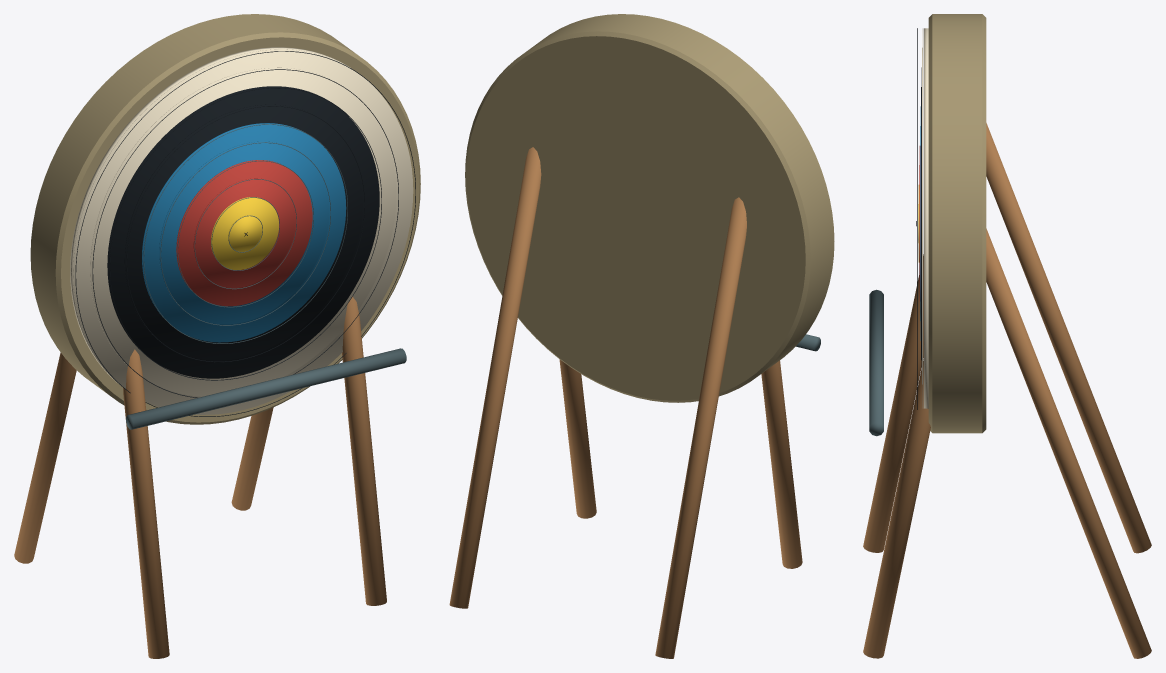
The model's file is club-archery-target.high.glb.
The picture shows the model from 3 angles, left to right: view 1: azimuth 30°, elevation 25°; view 2: azimuth 150°, elevation 25°; view 3: azimuth 270°, elevation 25°; orthographic projection. The views are drawn at different scales.
Visible parts, largest first — view 1: geometry:body:4, geometry:body:1, geometry:body:2, geometry:body:5, geometry:body:0, geometry:body:6, geometry:body:3, geometry:body:7; view 2: geometry:body:2, geometry:body:0; view 3: geometry:body:0, geometry:body:2, geometry:body:4, geometry:body:3, geometry:body:1.
Boxes of the visible parts, bbox=[...] form: geometry:body:4: bbox=[70, 47, 413, 414]; geometry:body:1: bbox=[75, 51, 415, 416]; geometry:body:2: bbox=[30, 14, 420, 424]; geometry:body:5: bbox=[142, 123, 346, 342]; geometry:body:0: bbox=[14, 296, 386, 658]; geometry:body:6: bbox=[176, 160, 312, 306]; geometry:body:3: bbox=[126, 124, 406, 429]; geometry:body:7: bbox=[211, 197, 278, 269]; geometry:body:2: bbox=[465, 14, 834, 402]; geometry:body:0: bbox=[449, 147, 802, 658]; geometry:body:0: bbox=[863, 123, 1151, 658]; geometry:body:2: bbox=[928, 14, 986, 433]; geometry:body:4: bbox=[922, 28, 928, 408]; geometry:body:3: bbox=[869, 289, 883, 436]; geometry:body:1: bbox=[916, 28, 921, 409].
Size of the model in its own units: 1.31 by 1.97 by 0.9017.
